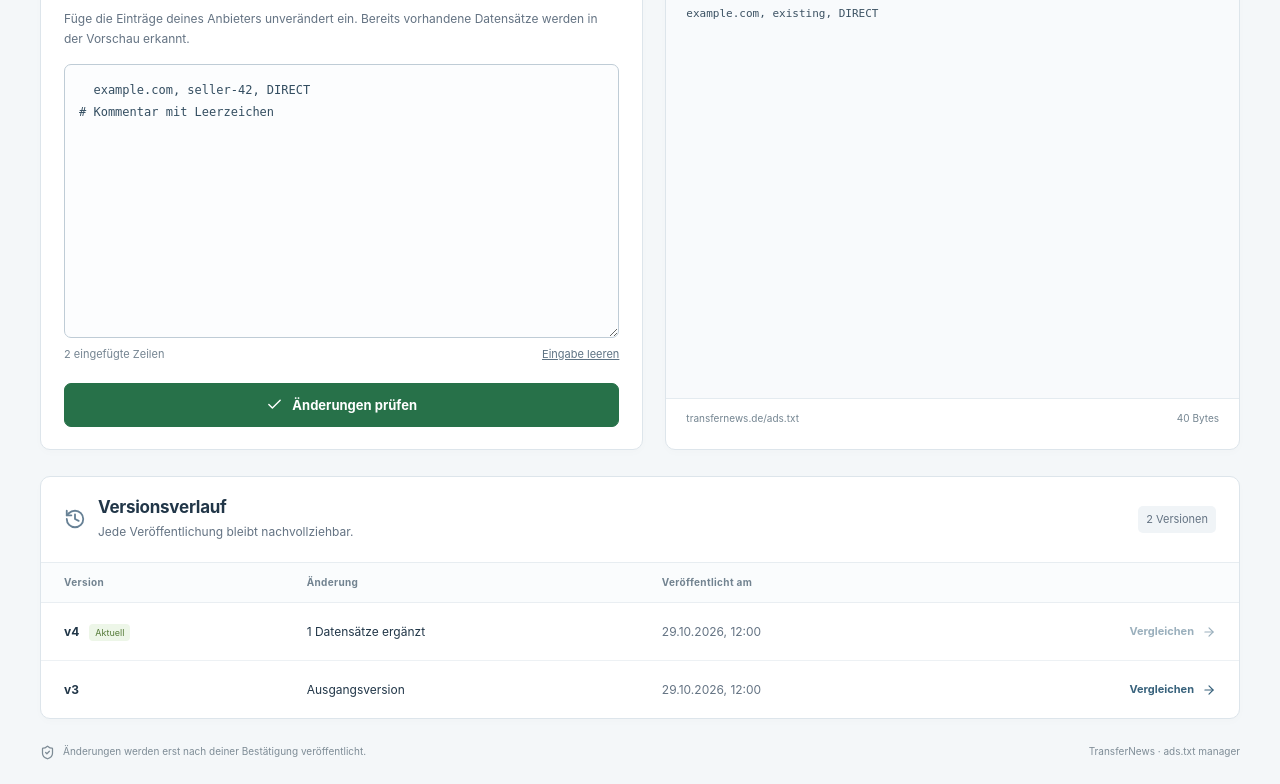
Test case: login rotates in-memory CSRF and preview/append preserve exact pasted text
Earlier steps of the test are not shown.
(page scrolled)
Click the button "Änderungen prüfen". click: [342, 405]
box: [64,383,619,427]
(page scrolled)
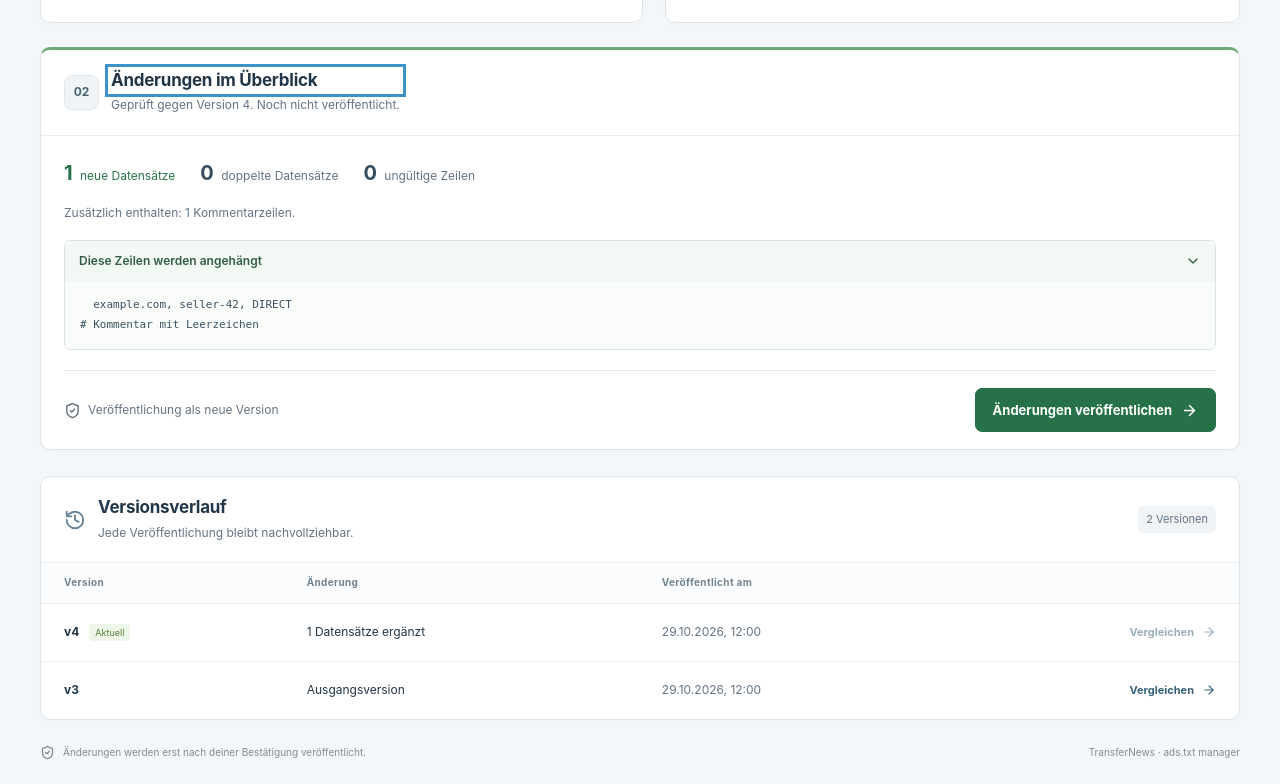
Click the button "Änderungen veröffentlichen". click: [1095, 410]
box: [975,388,1216,432]
(page scrolled)
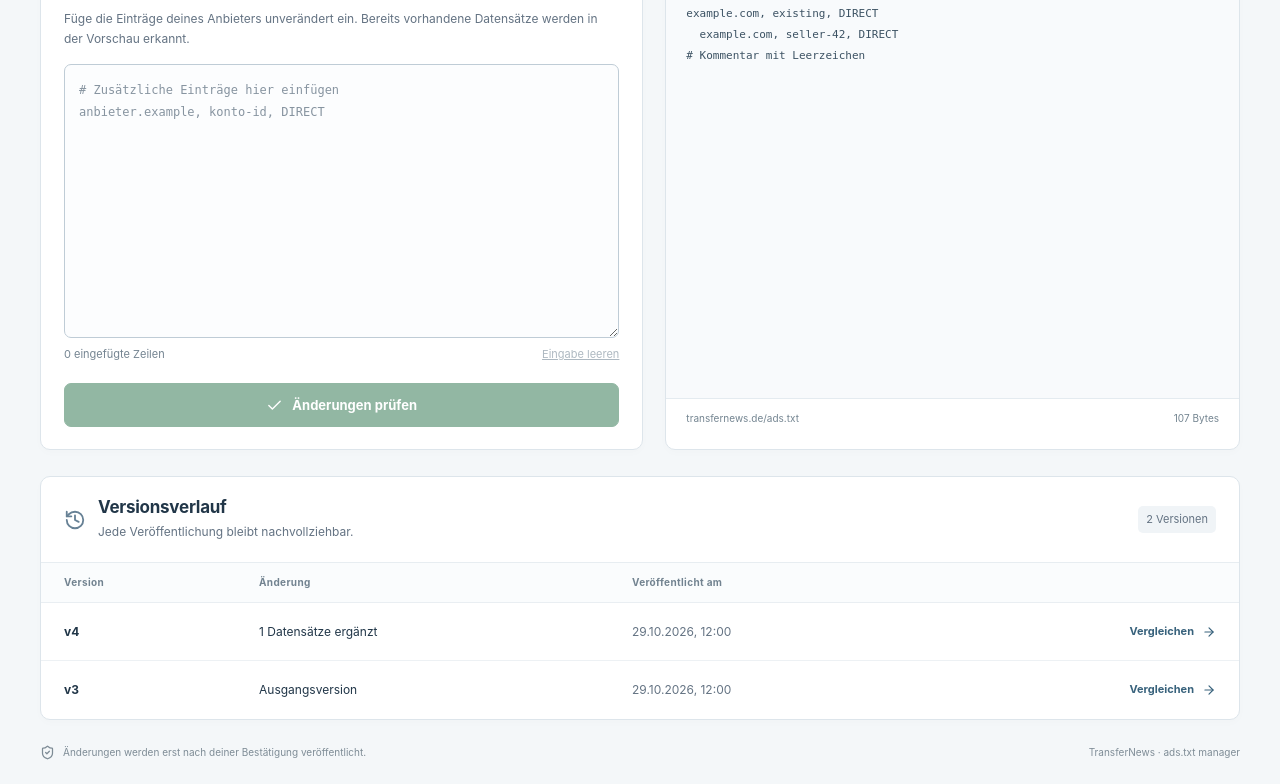
Expected: the text box labelled "Zusätzliche ads.txt-Zeilen" is empty, [64,64,619,338]
